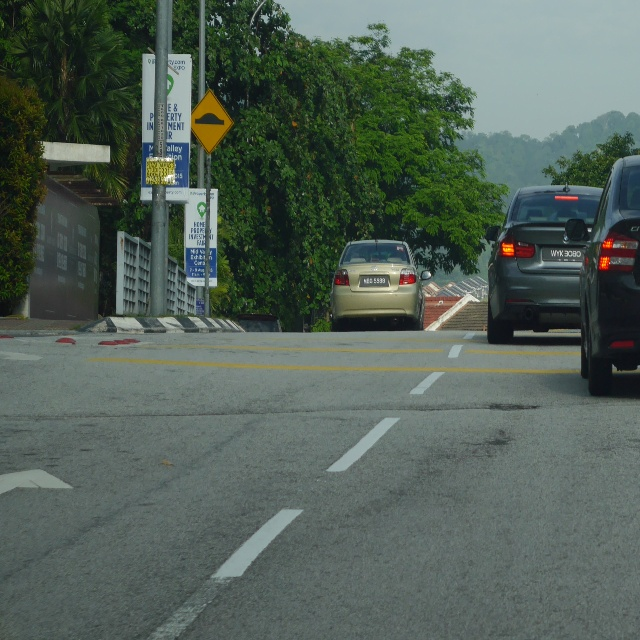bumper: (186, 90, 234, 154)
